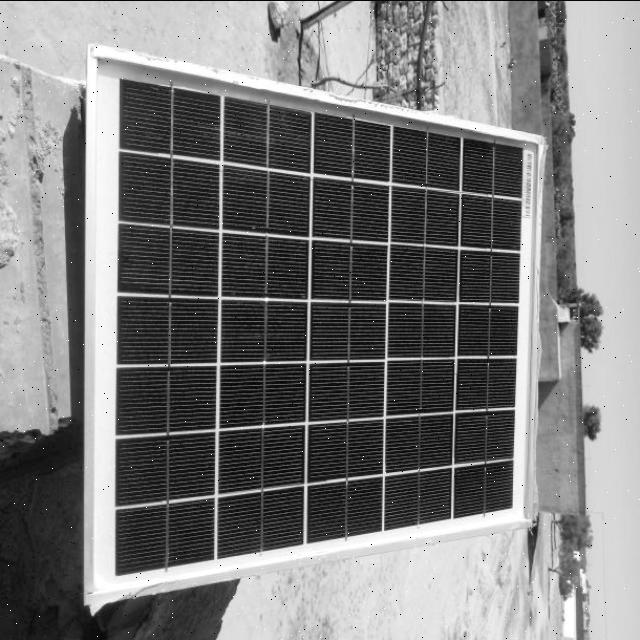Normal Solar Panel: (83, 46, 541, 601)
